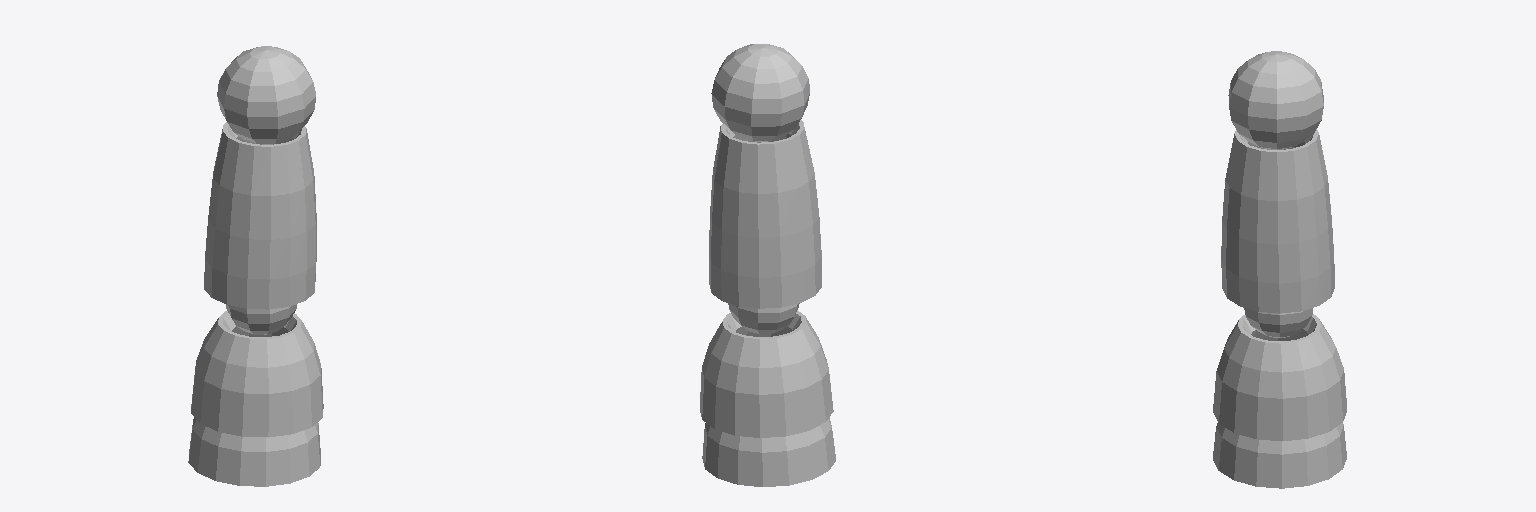
The model's file is high_left_arm.obj.
The picture shows the model from 3 angles: view 1: azimuth 30°, elevation 25°; view 2: azimuth 150°, elevation 25°; view 3: azimuth 270°, elevation 25°; orthographic projection.
Parts seen in each view (by area): view 1: polySurface6; view 2: polySurface6; view 3: polySurface6.
Boxes of the visible parts, <box> form: polySurface6: <box>188,46,323,486</box>; polySurface6: <box>700,44,835,486</box>; polySurface6: <box>1213,51,1346,488</box>.
Bounding box in the file's own units: 2.09 × 6.88 × 2.05.